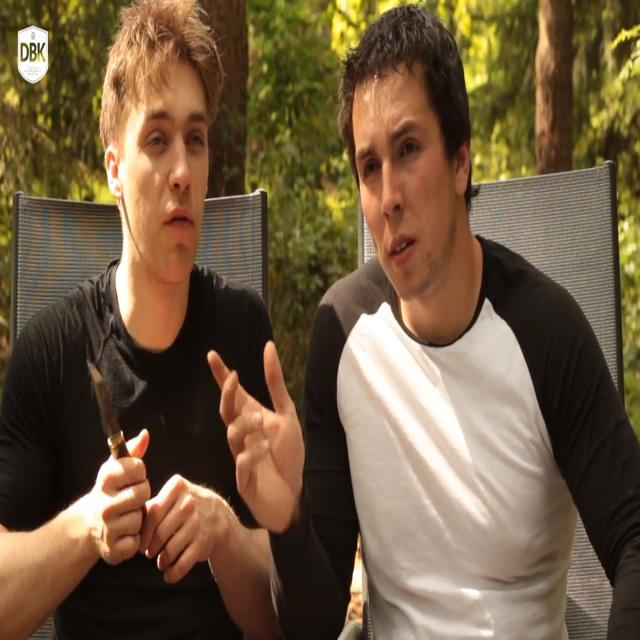knife: (85, 355, 132, 468)
